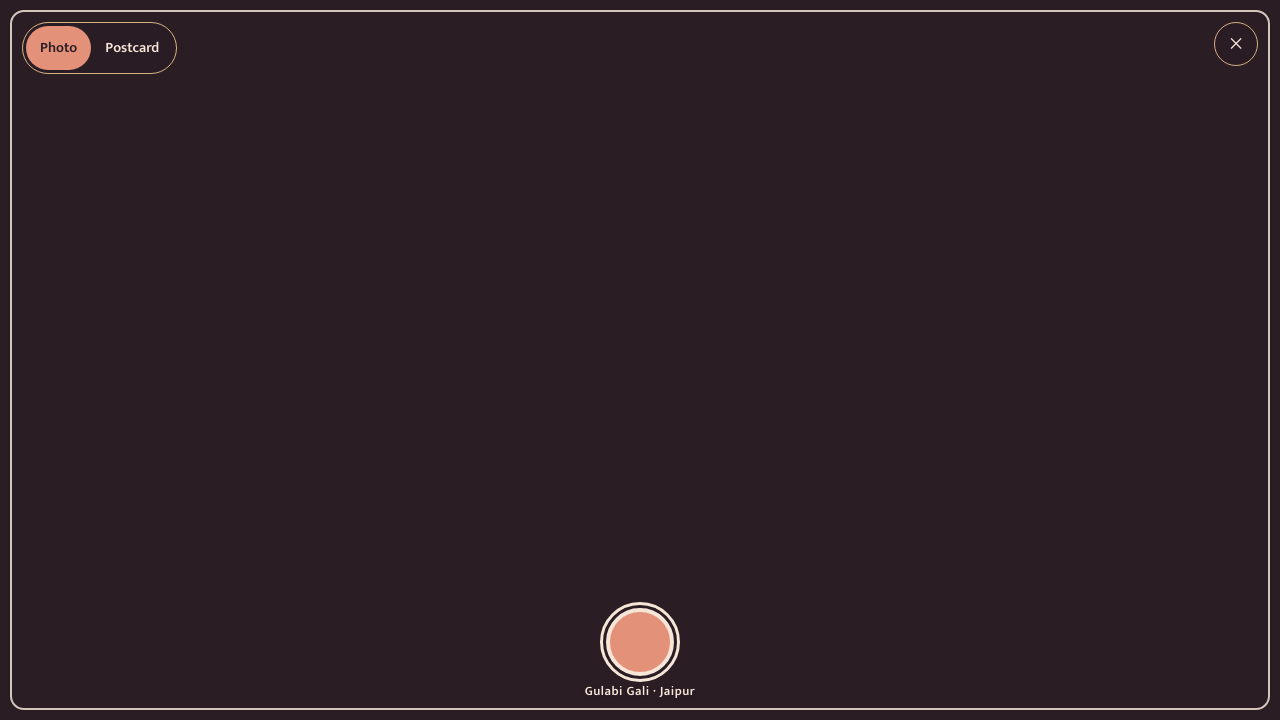
a failed capture (a lost context) says so and shares and saves nothing
What coordinates should you click on to do the following:
click the button named "Take photo"
I would click on:
 (640, 642)
Its box is [606,608,674,676].
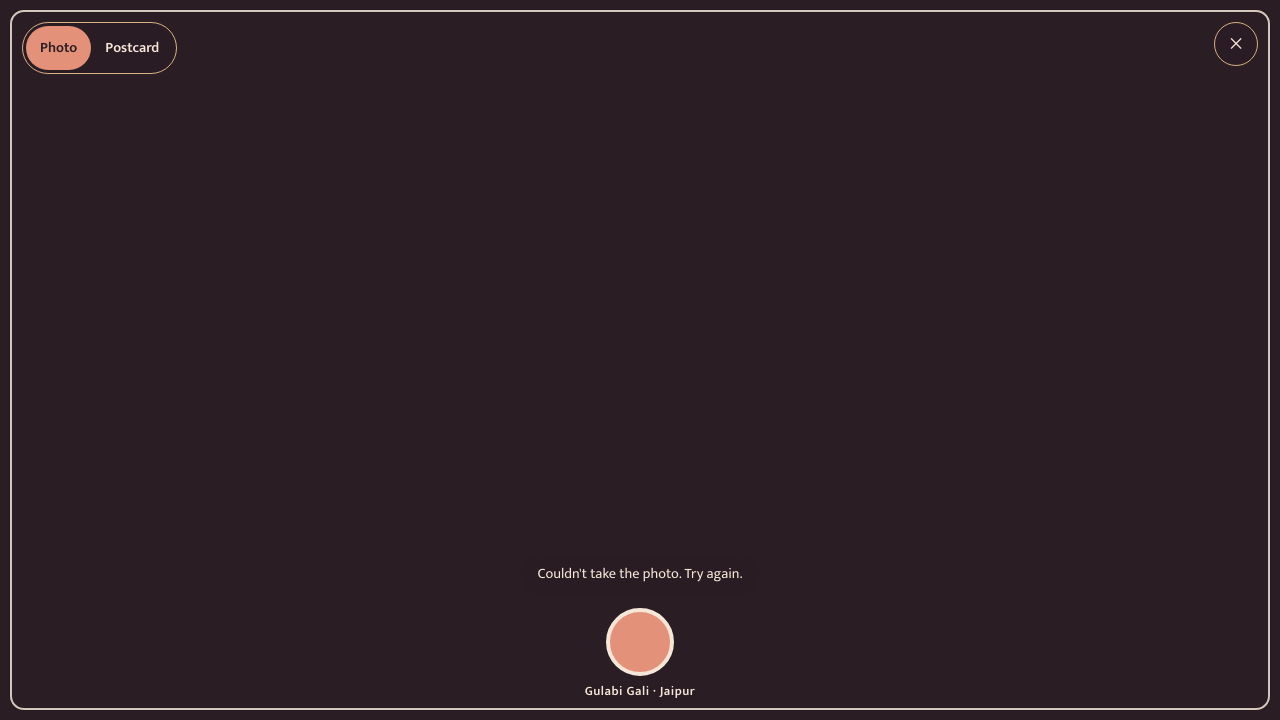
Result: the message "Couldn't take the photo. Try again." is shown at [522,554,758,594]
